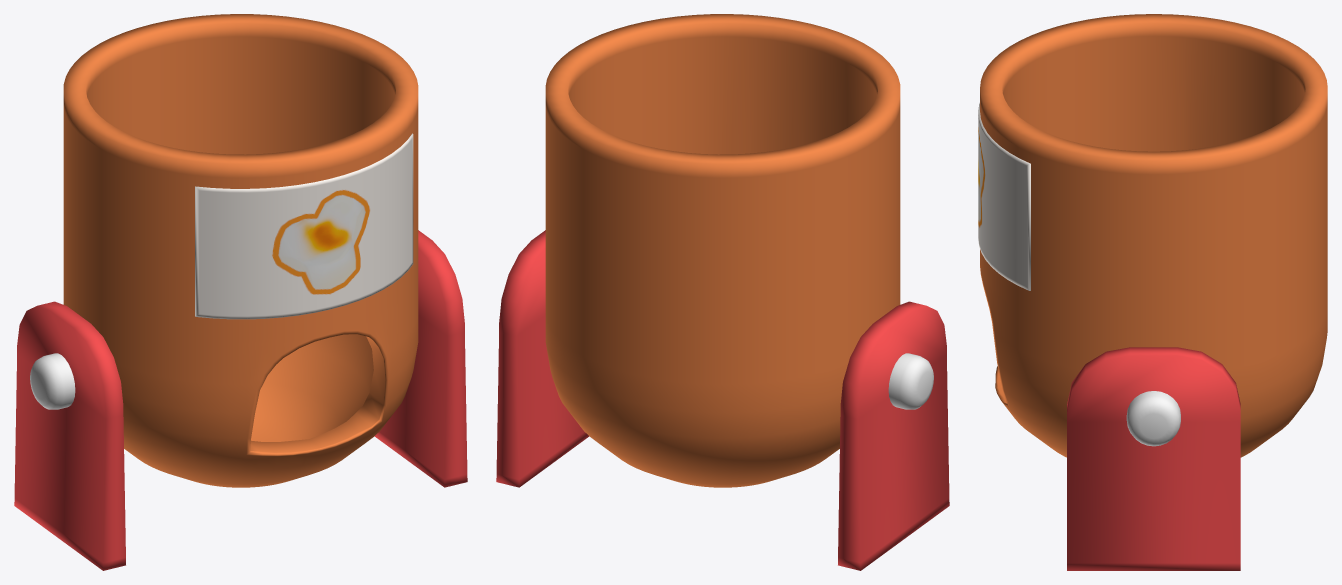
File: Popcorn_Caramel.fbx
The picture shows the model from 3 angles, left to right: view 1: azimuth 30°, elevation 25°; view 2: azimuth 150°, elevation 25°; view 3: azimuth 270°, elevation 25°; orthographic projection. The views are drawn at different scales.
Visible parts, largest first — view 1: Body, Leg, Title; view 2: Body, Leg; view 3: Body, Leg, Title.
Part boxes in pixels (bbox=[...]): Body: bbox=[63, 14, 418, 487]; Leg: bbox=[14, 230, 467, 570]; Title: bbox=[195, 133, 413, 319]; Body: bbox=[545, 14, 900, 487]; Leg: bbox=[496, 230, 949, 570]; Body: bbox=[980, 14, 1327, 457]; Leg: bbox=[1067, 347, 1240, 570]; Title: bbox=[978, 103, 1030, 290].
Bounding box in the file's own units: 526 × 503 × 402.
